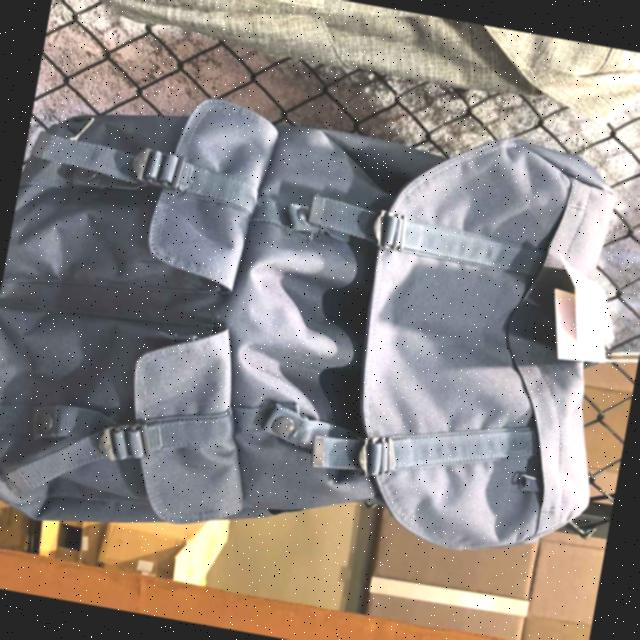Handbag: (0, 46, 640, 626)
